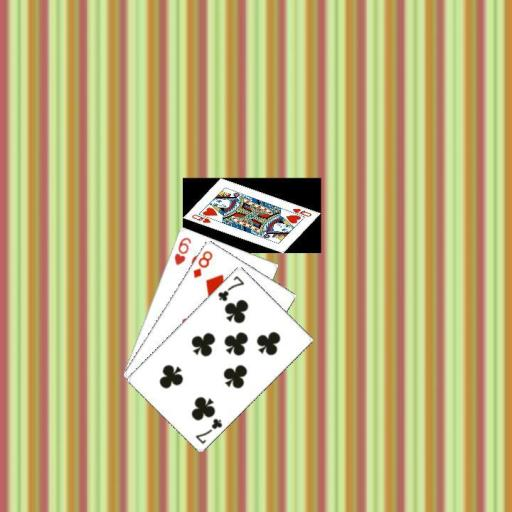6H: (171, 234, 193, 267)
7C: (192, 415, 224, 445), (215, 272, 245, 303)
8D: (190, 248, 214, 280)
